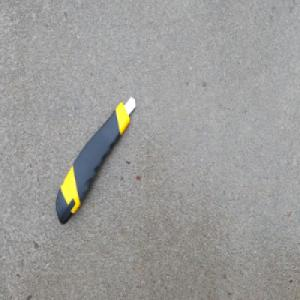Cutter: (55, 93, 137, 224)
